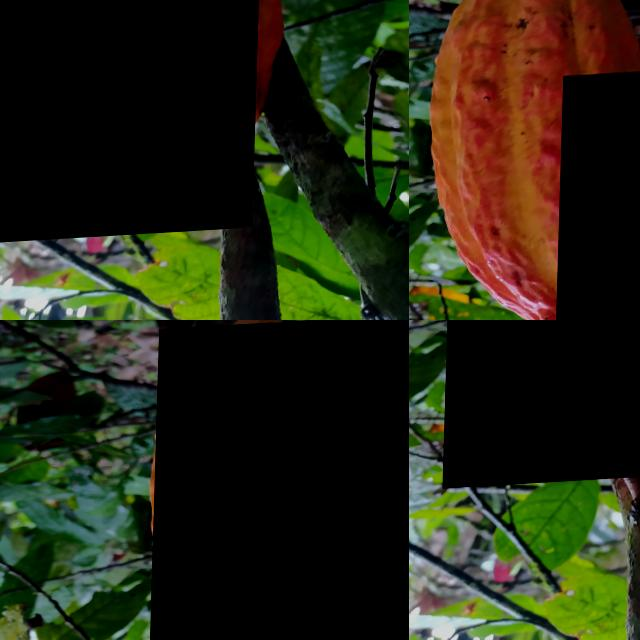Monilia: (558, 71, 640, 320)
Sana: (148, 320, 409, 640), (0, 0, 264, 245), (445, 320, 640, 490)
